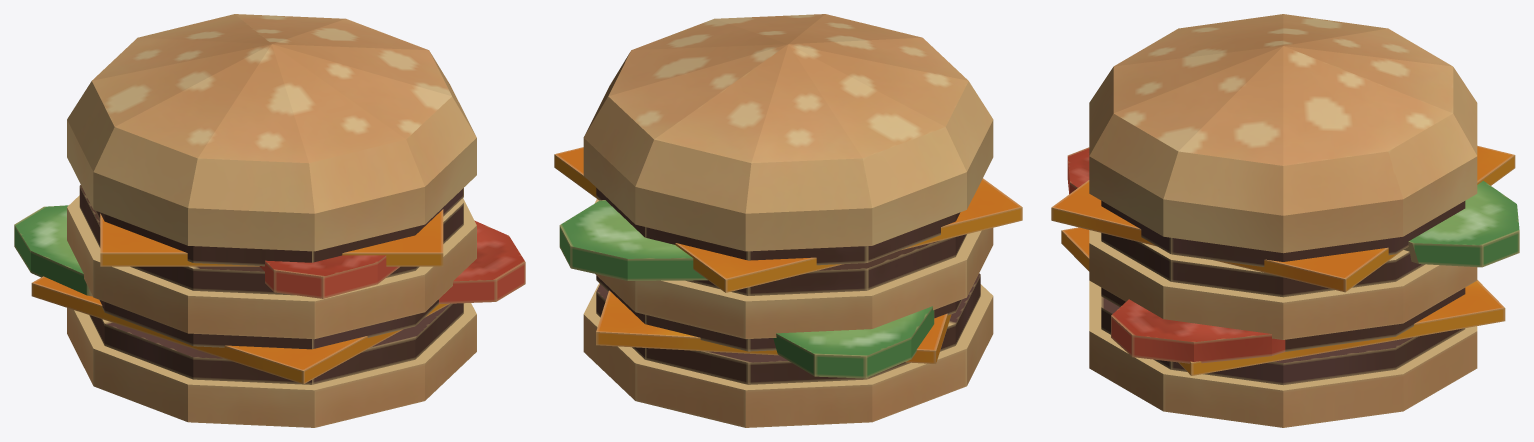
File: burger.obj
The picture shows the model from 3 angles, left to right: view 1: azimuth 30°, elevation 25°; view 2: azimuth 150°, elevation 25°; view 3: azimuth 270°, elevation 25°; orthographic projection.
Parts seen in each view (by area): view 1: cylinder, cube; view 2: cylinder, cube; view 3: cylinder, cube.
Boxes of the visible parts, x1,y1,x2,y2 form: cylinder: [14, 14, 525, 427]; cube: [31, 209, 449, 384]; cylinder: [559, 14, 993, 427]; cube: [554, 147, 1022, 363]; cylinder: [1067, 14, 1519, 427]; cube: [1051, 145, 1515, 375].
Size of the model in its own units: 1.2 by 0.8594 by 1.21.
